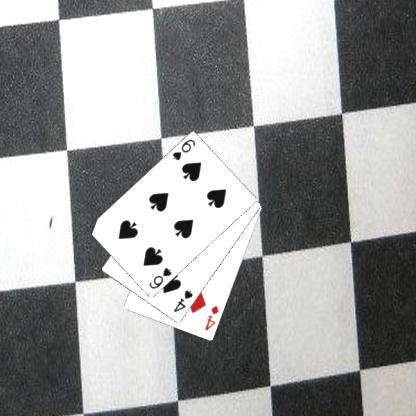4D: (202, 303, 221, 332)
4S: (170, 288, 194, 314)
6S: (146, 265, 172, 291), (170, 137, 197, 162)
